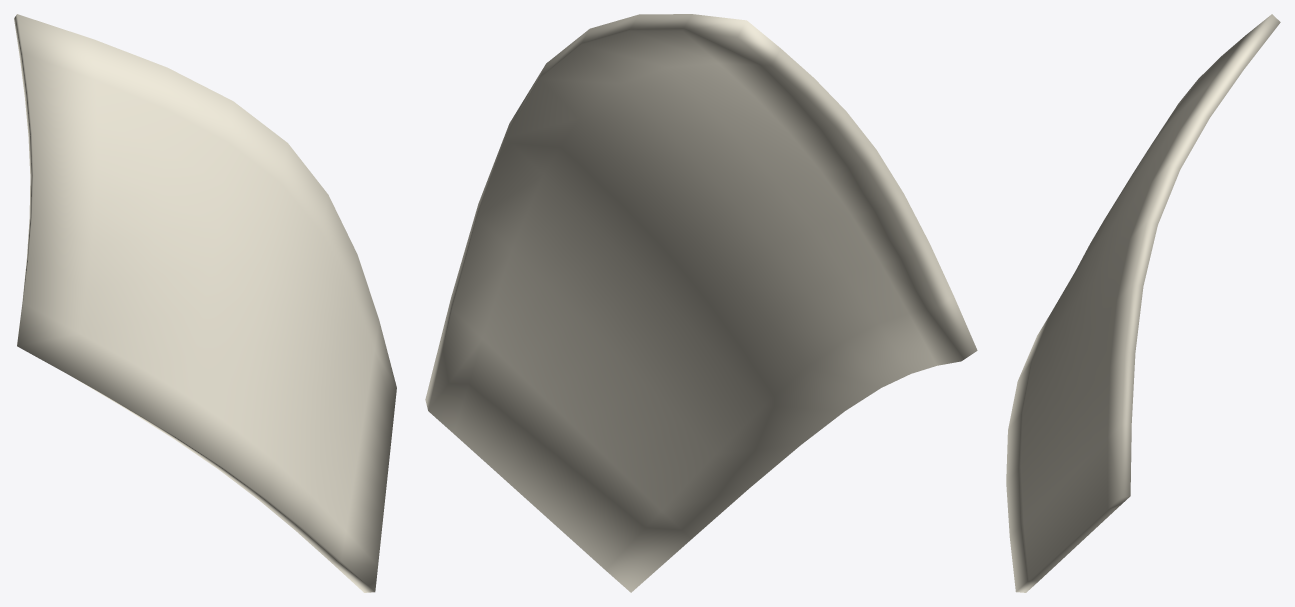
3 views of the same model, side by side, from view 1: azimuth 30°, elevation 25°; view 2: azimuth 150°, elevation 25°; view 3: azimuth 270°, elevation 25° (orthographic). The views are drawn at different scales.
Visible parts, largest first — view 1: ZA_9b34d41ceb172ffe; view 2: ZA_9b34d41ceb172ffe; view 3: ZA_9b34d41ceb172ffe.
Part boxes in pixels (left/top/right/bottom): ZA_9b34d41ceb172ffe: left=14, top=14, right=396, bottom=592; ZA_9b34d41ceb172ffe: left=425, top=14, right=977, bottom=592; ZA_9b34d41ceb172ffe: left=1006, top=14, right=1280, bottom=592.
Size of the model in its own units: 0.0161 by 0.0219 by 0.0112.
